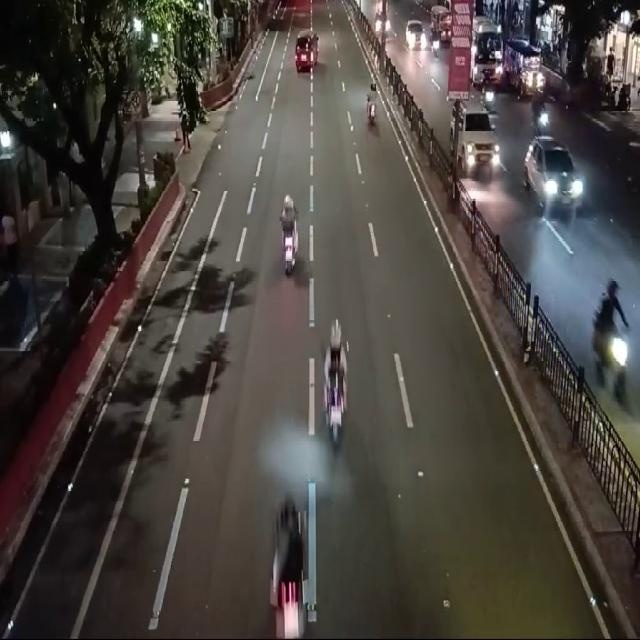car: (518, 129, 588, 227), (447, 104, 501, 186), (286, 21, 326, 80), (401, 10, 428, 58)
motorcycle: (260, 483, 312, 638), (583, 277, 637, 411), (313, 318, 352, 454), (277, 189, 303, 283), (360, 71, 385, 135)
